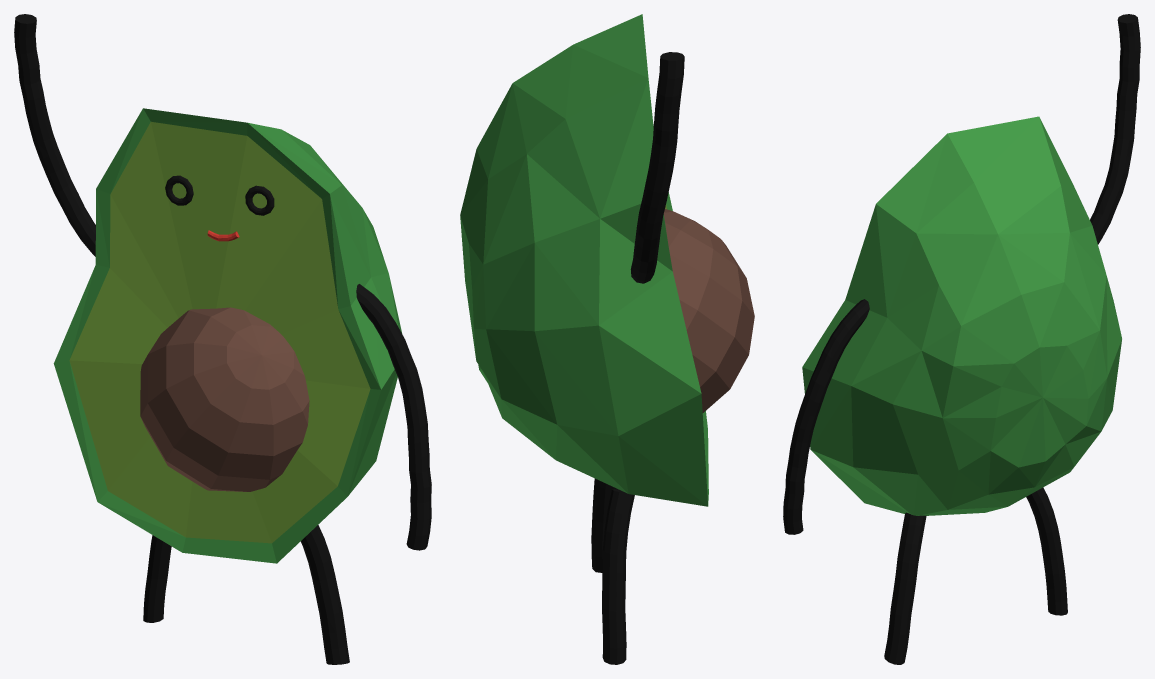
Rendered from avocado-poly.glb.
3 renders of one model, left to right at view 1: azimuth 30°, elevation 25°; view 2: azimuth 150°, elevation 25°; view 3: azimuth 270°, elevation 25°, orthographic. The views are drawn at different scales.
Visible parts, largest first — view 1: node_MeshObject-75031552-PolyPaper20; view 2: node_MeshObject-75031552-PolyPaper20; view 3: node_MeshObject-75031552-PolyPaper20.
Boxes of the visible parts, x1,y1,x2,y2 form: node_MeshObject-75031552-PolyPaper20: [14, 14, 431, 664]; node_MeshObject-75031552-PolyPaper20: [460, 14, 754, 664]; node_MeshObject-75031552-PolyPaper20: [783, 14, 1140, 664].
Bounding box in the file's own units: 0.2012 × 0.4183 × 0.2426.
